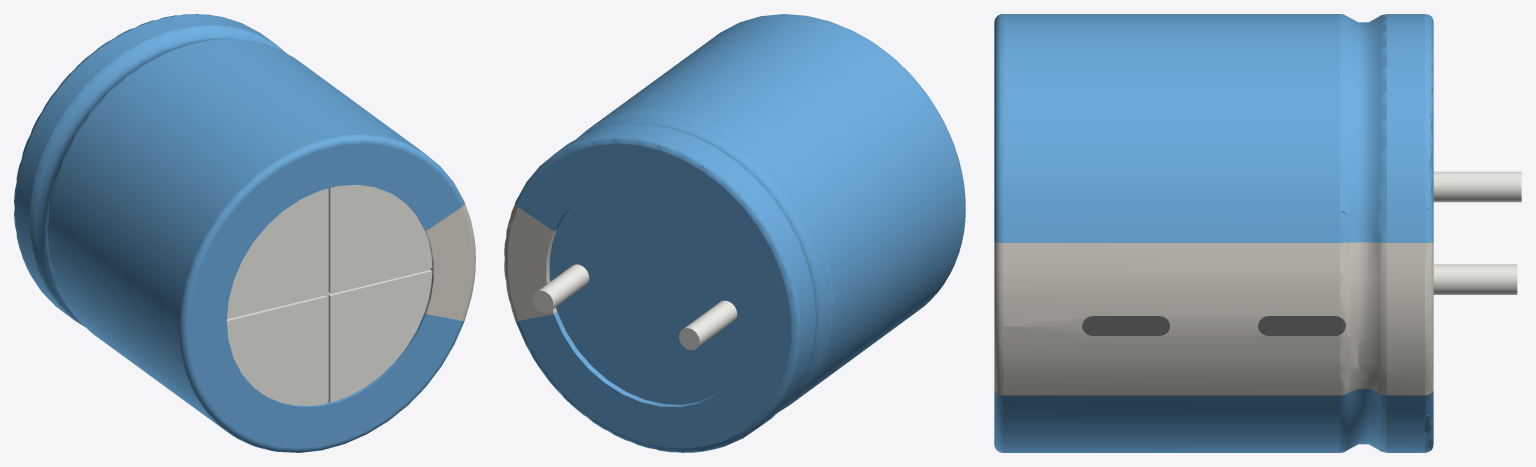
Rendered from CP_Radial_D10.0mm_P5.00mm.glb.
3 views of the same model, side by side, from view 1: azimuth 30°, elevation 25°; view 2: azimuth 150°, elevation 25°; view 3: azimuth 270°, elevation 25° (orthographic). The views are drawn at different scales.
Parts seen in each view (by area): view 1: Shape_IndexedFaceSet.019, Shape_IndexedFaceSet.026, Shape_IndexedFaceSet.030, Shape_IndexedFaceSet.036, Shape_IndexedFaceSet.032, Shape_IndexedFaceSet.039, Shape_IndexedFaceSet.011, Shape_IndexedFaceSet.022, Shape_IndexedFaceSet.015, Shape_IndexedFaceSet.027, Shape_IndexedFaceSet.013, Shape_IndexedFaceSet.033 (+4 smaller); view 2: Shape_IndexedFaceSet.019, Shape_IndexedFaceSet.002, Shape_IndexedFaceSet.006, Shape_IndexedFaceSet.011, Shape_IndexedFaceSet.009, Shape_IndexedFaceSet.015, Shape_IndexedFaceSet.007, Shape_IndexedFaceSet.017, Shape_IndexedFaceSet.005, Shape_IndexedFaceSet.001, Shape_IndexedFaceSet.003, Shape_IndexedFaceSet.013 (+2 smaller); view 3: Shape_IndexedFaceSet.019, Shape_IndexedFaceSet.020, Shape_IndexedFaceSet.011, Shape_IndexedFaceSet.015, Shape_IndexedFaceSet.012, Shape_IndexedFaceSet.016, Shape_IndexedFaceSet.022, Shape_IndexedFaceSet.005, Shape_IndexedFaceSet.001, Shape_IndexedFaceSet.017, Shape_IndexedFaceSet.013, Shape_IndexedFaceSet.009 (+6 smaller).
Part boxes in pixels (<box>): Shape_IndexedFaceSet.019: <box>48,38,423,425</box>; Shape_IndexedFaceSet.026: <box>188,143,461,448</box>; Shape_IndexedFaceSet.030: <box>330,271,432,402</box>; Shape_IndexedFaceSet.036: <box>226,297,327,405</box>; Shape_IndexedFaceSet.032: <box>330,184,432,292</box>; Shape_IndexedFaceSet.039: <box>227,189,327,317</box>; Shape_IndexedFaceSet.011: <box>15,14,274,318</box>; Shape_IndexedFaceSet.022: <box>179,134,464,452</box>; Shape_IndexedFaceSet.015: <box>35,30,272,317</box>; Shape_IndexedFaceSet.027: <box>426,207,471,320</box>; Shape_IndexedFaceSet.013: <box>29,25,286,327</box>; Shape_IndexedFaceSet.033: <box>227,188,430,401</box>; Shape_IndexedFaceSet.019: <box>589,14,964,404</box>; Shape_IndexedFaceSet.002: <box>549,185,752,404</box>; Shape_IndexedFaceSet.006: <box>518,143,791,448</box>; Shape_IndexedFaceSet.011: <box>556,124,815,426</box>; Shape_IndexedFaceSet.009: <box>515,134,800,452</box>; Shape_IndexedFaceSet.015: <box>591,116,827,402</box>; Shape_IndexedFaceSet.007: <box>508,207,553,320</box>; Shape_IndexedFaceSet.017: <box>577,110,833,412</box>; Shape_IndexedFaceSet.005: <box>684,300,737,347</box>; Shape_IndexedFaceSet.001: <box>537,264,589,310</box>; Shape_IndexedFaceSet.003: <box>554,201,715,407</box>; Shape_IndexedFaceSet.013: <box>599,123,816,413</box>; Shape_IndexedFaceSet.019: <box>1003,14,1339,452</box>; Shape_IndexedFaceSet.020: <box>1003,243,1339,395</box>; Shape_IndexedFaceSet.011: <box>1387,14,1424,452</box>; Shape_IndexedFaceSet.015: <box>1349,17,1377,449</box>; Shape_IndexedFaceSet.012: <box>1387,243,1424,395</box>; Shape_IndexedFaceSet.016: <box>1349,242,1377,392</box>; Shape_IndexedFaceSet.022: <box>994,14,1003,452</box>; Shape_IndexedFaceSet.005: <box>1433,171,1521,202</box>; Shape_IndexedFaceSet.001: <box>1433,264,1517,294</box>; Shape_IndexedFaceSet.017: <box>1340,14,1348,452</box>; Shape_IndexedFaceSet.013: <box>1378,14,1386,452</box>; Shape_IndexedFaceSet.009: <box>1425,14,1433,452</box>.
Bounding box in the file's own units: 3.94 × 3.93 × 4.72.
